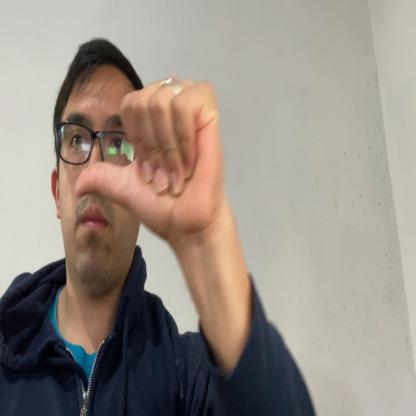A: (75, 75, 223, 247)
